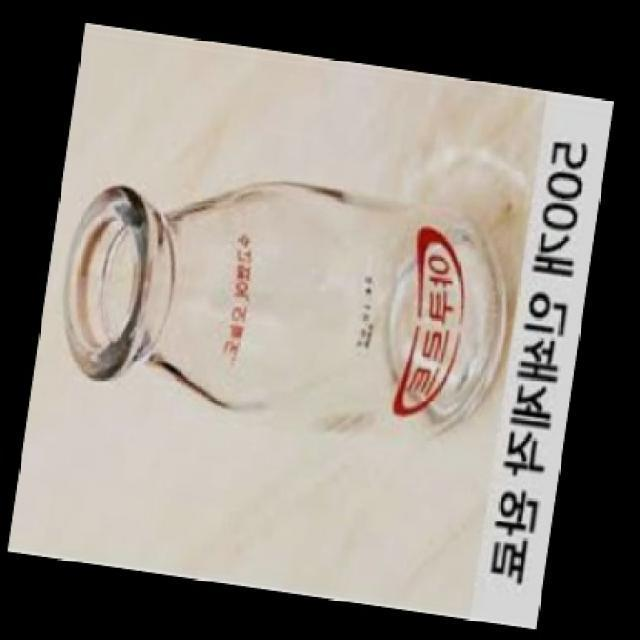Glass: (60, 181, 507, 441)
